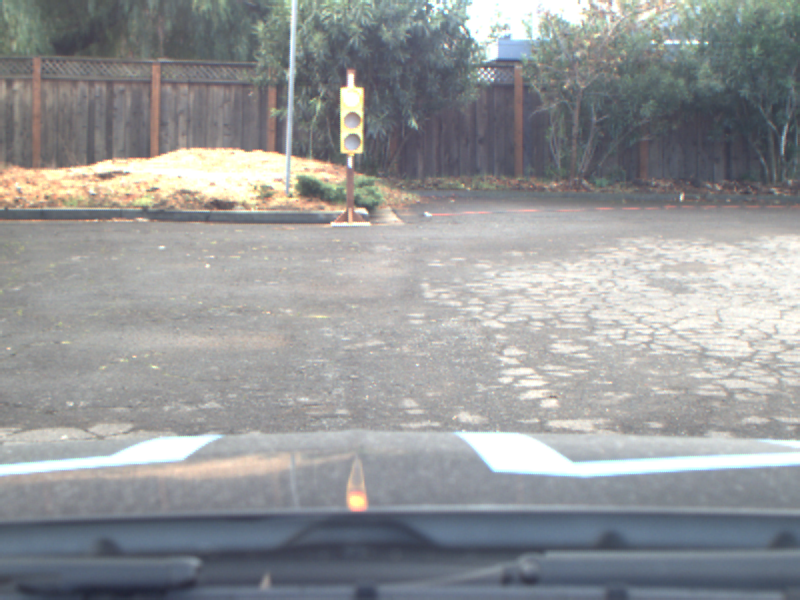Red: (339, 85, 364, 153)
